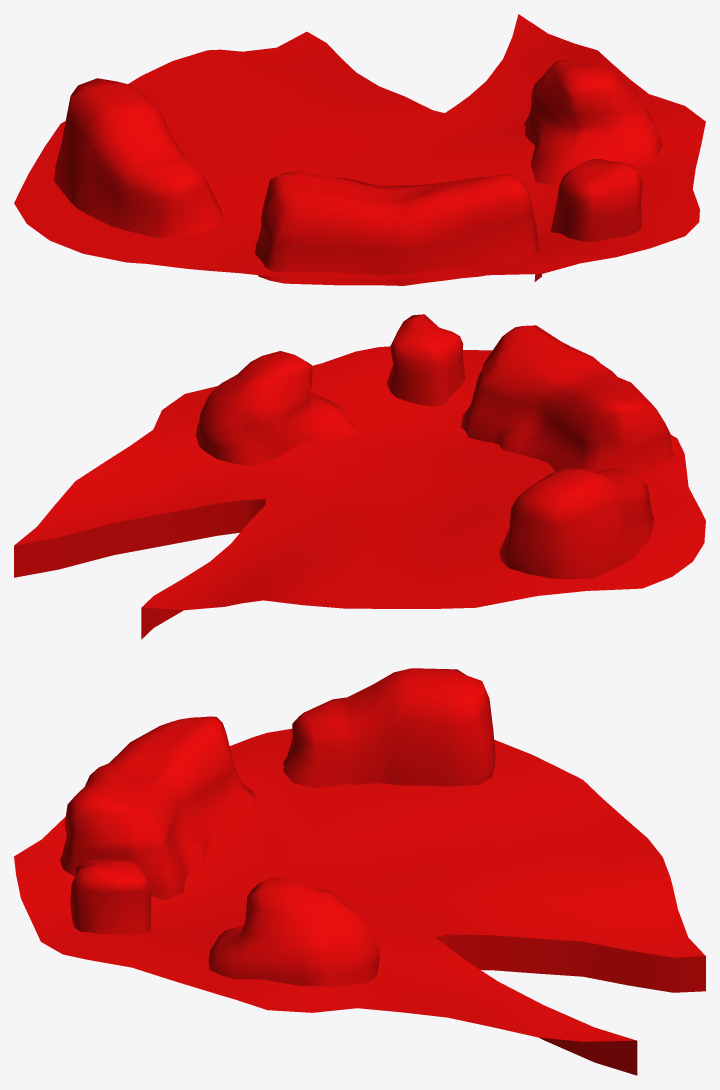
Rendered from collision map.fbx.
3 renders of one model, top to bottom at view 1: azimuth 30°, elevation 25°; view 2: azimuth 150°, elevation 25°; view 3: azimuth 270°, elevation 25°, orthographic. The views are drawn at different scales.
Parts seen in each view (by area): view 1: polySurface12; view 2: polySurface12; view 3: polySurface12.
Boxes of the visible parts, x1,y1,x2,y2 form: polySurface12: (14, 14, 705, 285); polySurface12: (14, 314, 705, 639); polySurface12: (14, 668, 705, 1075).
Size of the model in its own units: 726 by 177 by 718.
